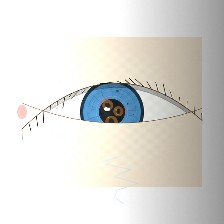foreign_body_visible: (92, 107, 131, 138)
